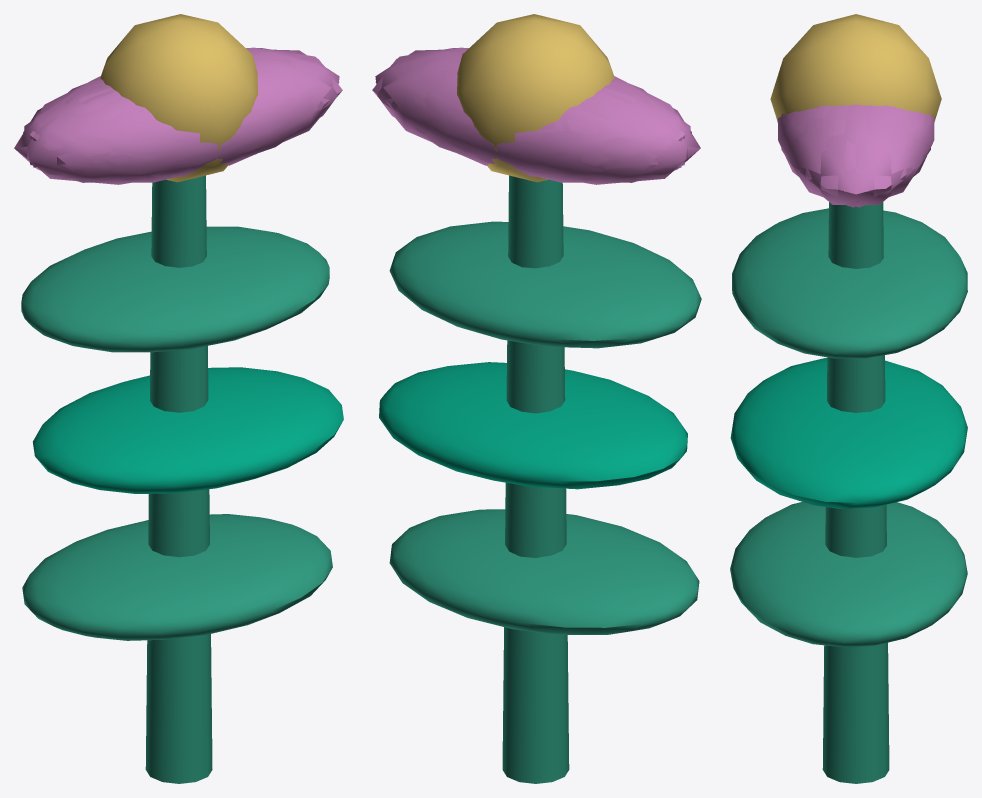
File: andrographis-paniculata.glb
3 renders of one model, left to right at view 1: azimuth 30°, elevation 25°; view 2: azimuth 150°, elevation 25°; view 3: azimuth 270°, elevation 25°, orthographic.
Parts seen in each view (by area): view 1: leaf2, leaf1, leaf0, stem, center, petal6, petal2, petal1, petal5, petal7, petal0; view 2: leaf2, leaf1, leaf0, stem, center, petal3, petal7, petal8, petal4, petal2, petal0; view 3: leaf1, leaf2, leaf0, stem, center, petal0, petal4, petal5, petal1, petal8.
Boxes of the visible parts, x1,y1,x2,y2 form: leaf2: [21, 226, 329, 352]; leaf1: [33, 367, 343, 493]; leaf0: [22, 514, 332, 640]; stem: [145, 175, 212, 783]; center: [100, 14, 257, 182]; petal6: [33, 90, 243, 182]; petal2: [24, 84, 186, 184]; petal1: [106, 68, 323, 180]; petal5: [174, 57, 342, 172]; petal7: [14, 78, 120, 175]; petal0: [251, 49, 339, 154]; leaf2: [389, 221, 701, 348]; leaf1: [379, 362, 687, 489]; leaf0: [389, 509, 699, 634]; stem: [502, 175, 569, 783]; center: [457, 14, 614, 182]; petal3: [471, 90, 681, 182]; petal7: [528, 84, 690, 184]; petal8: [391, 68, 608, 180]; petal4: [372, 57, 540, 172]; petal2: [594, 78, 700, 175]; petal0: [375, 49, 464, 154]; leaf1: [730, 358, 967, 508]; leaf2: [732, 208, 967, 358]; leaf0: [730, 502, 967, 647]; stem: [822, 202, 889, 783]; center: [770, 14, 941, 119]; petal0: [793, 104, 919, 204]; petal4: [843, 105, 930, 207]; petal5: [781, 105, 868, 207]; petal1: [778, 105, 831, 177]; petal8: [881, 105, 934, 177].
Size of the model in its own units: 0.1541 by 0.3471 by 0.1.
